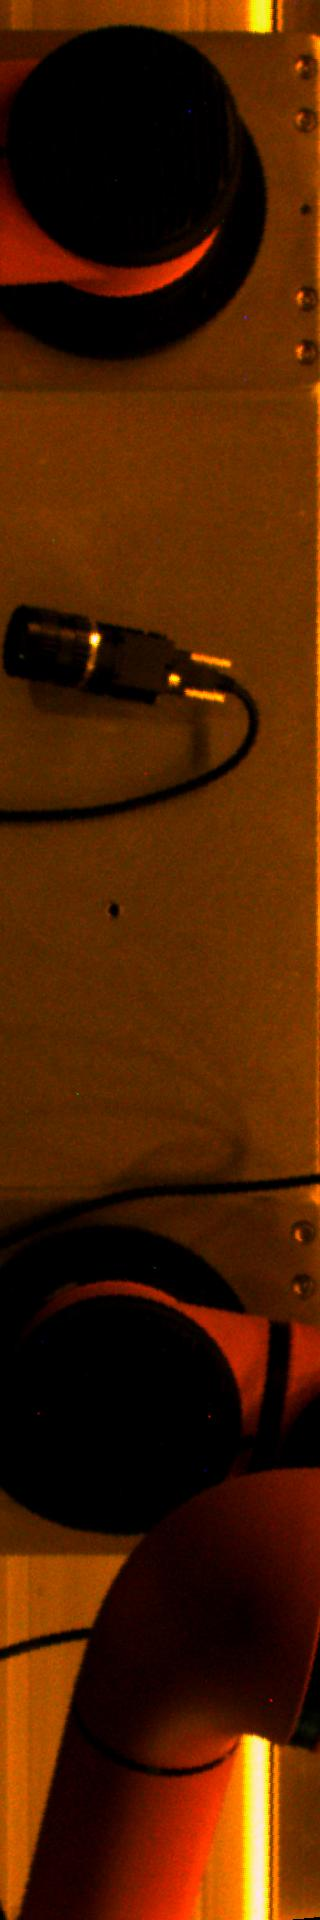keyPoint_2: (98, 895, 128, 924)
